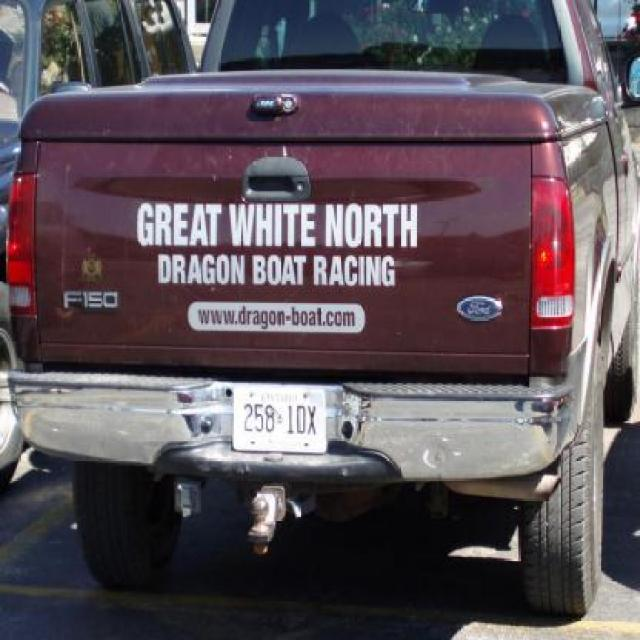License-Plates: (228, 385, 328, 456)
